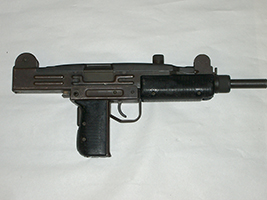rifle: (11, 38, 265, 159)
